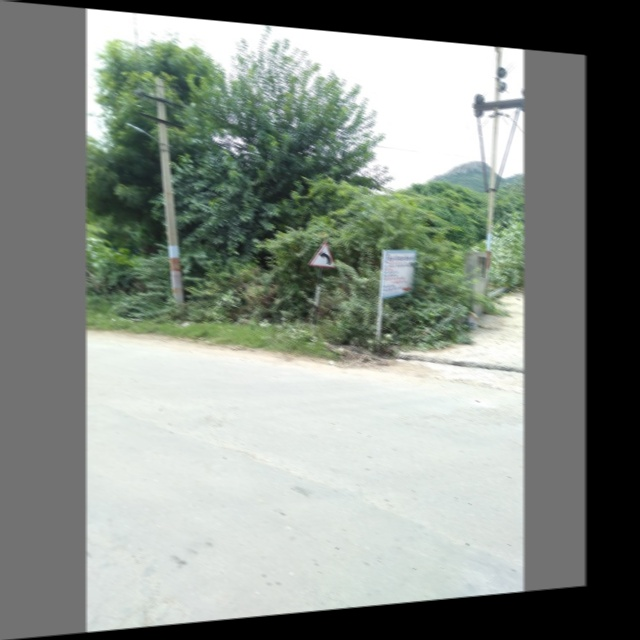Left_Hand_Curve: (309, 236, 338, 270)
